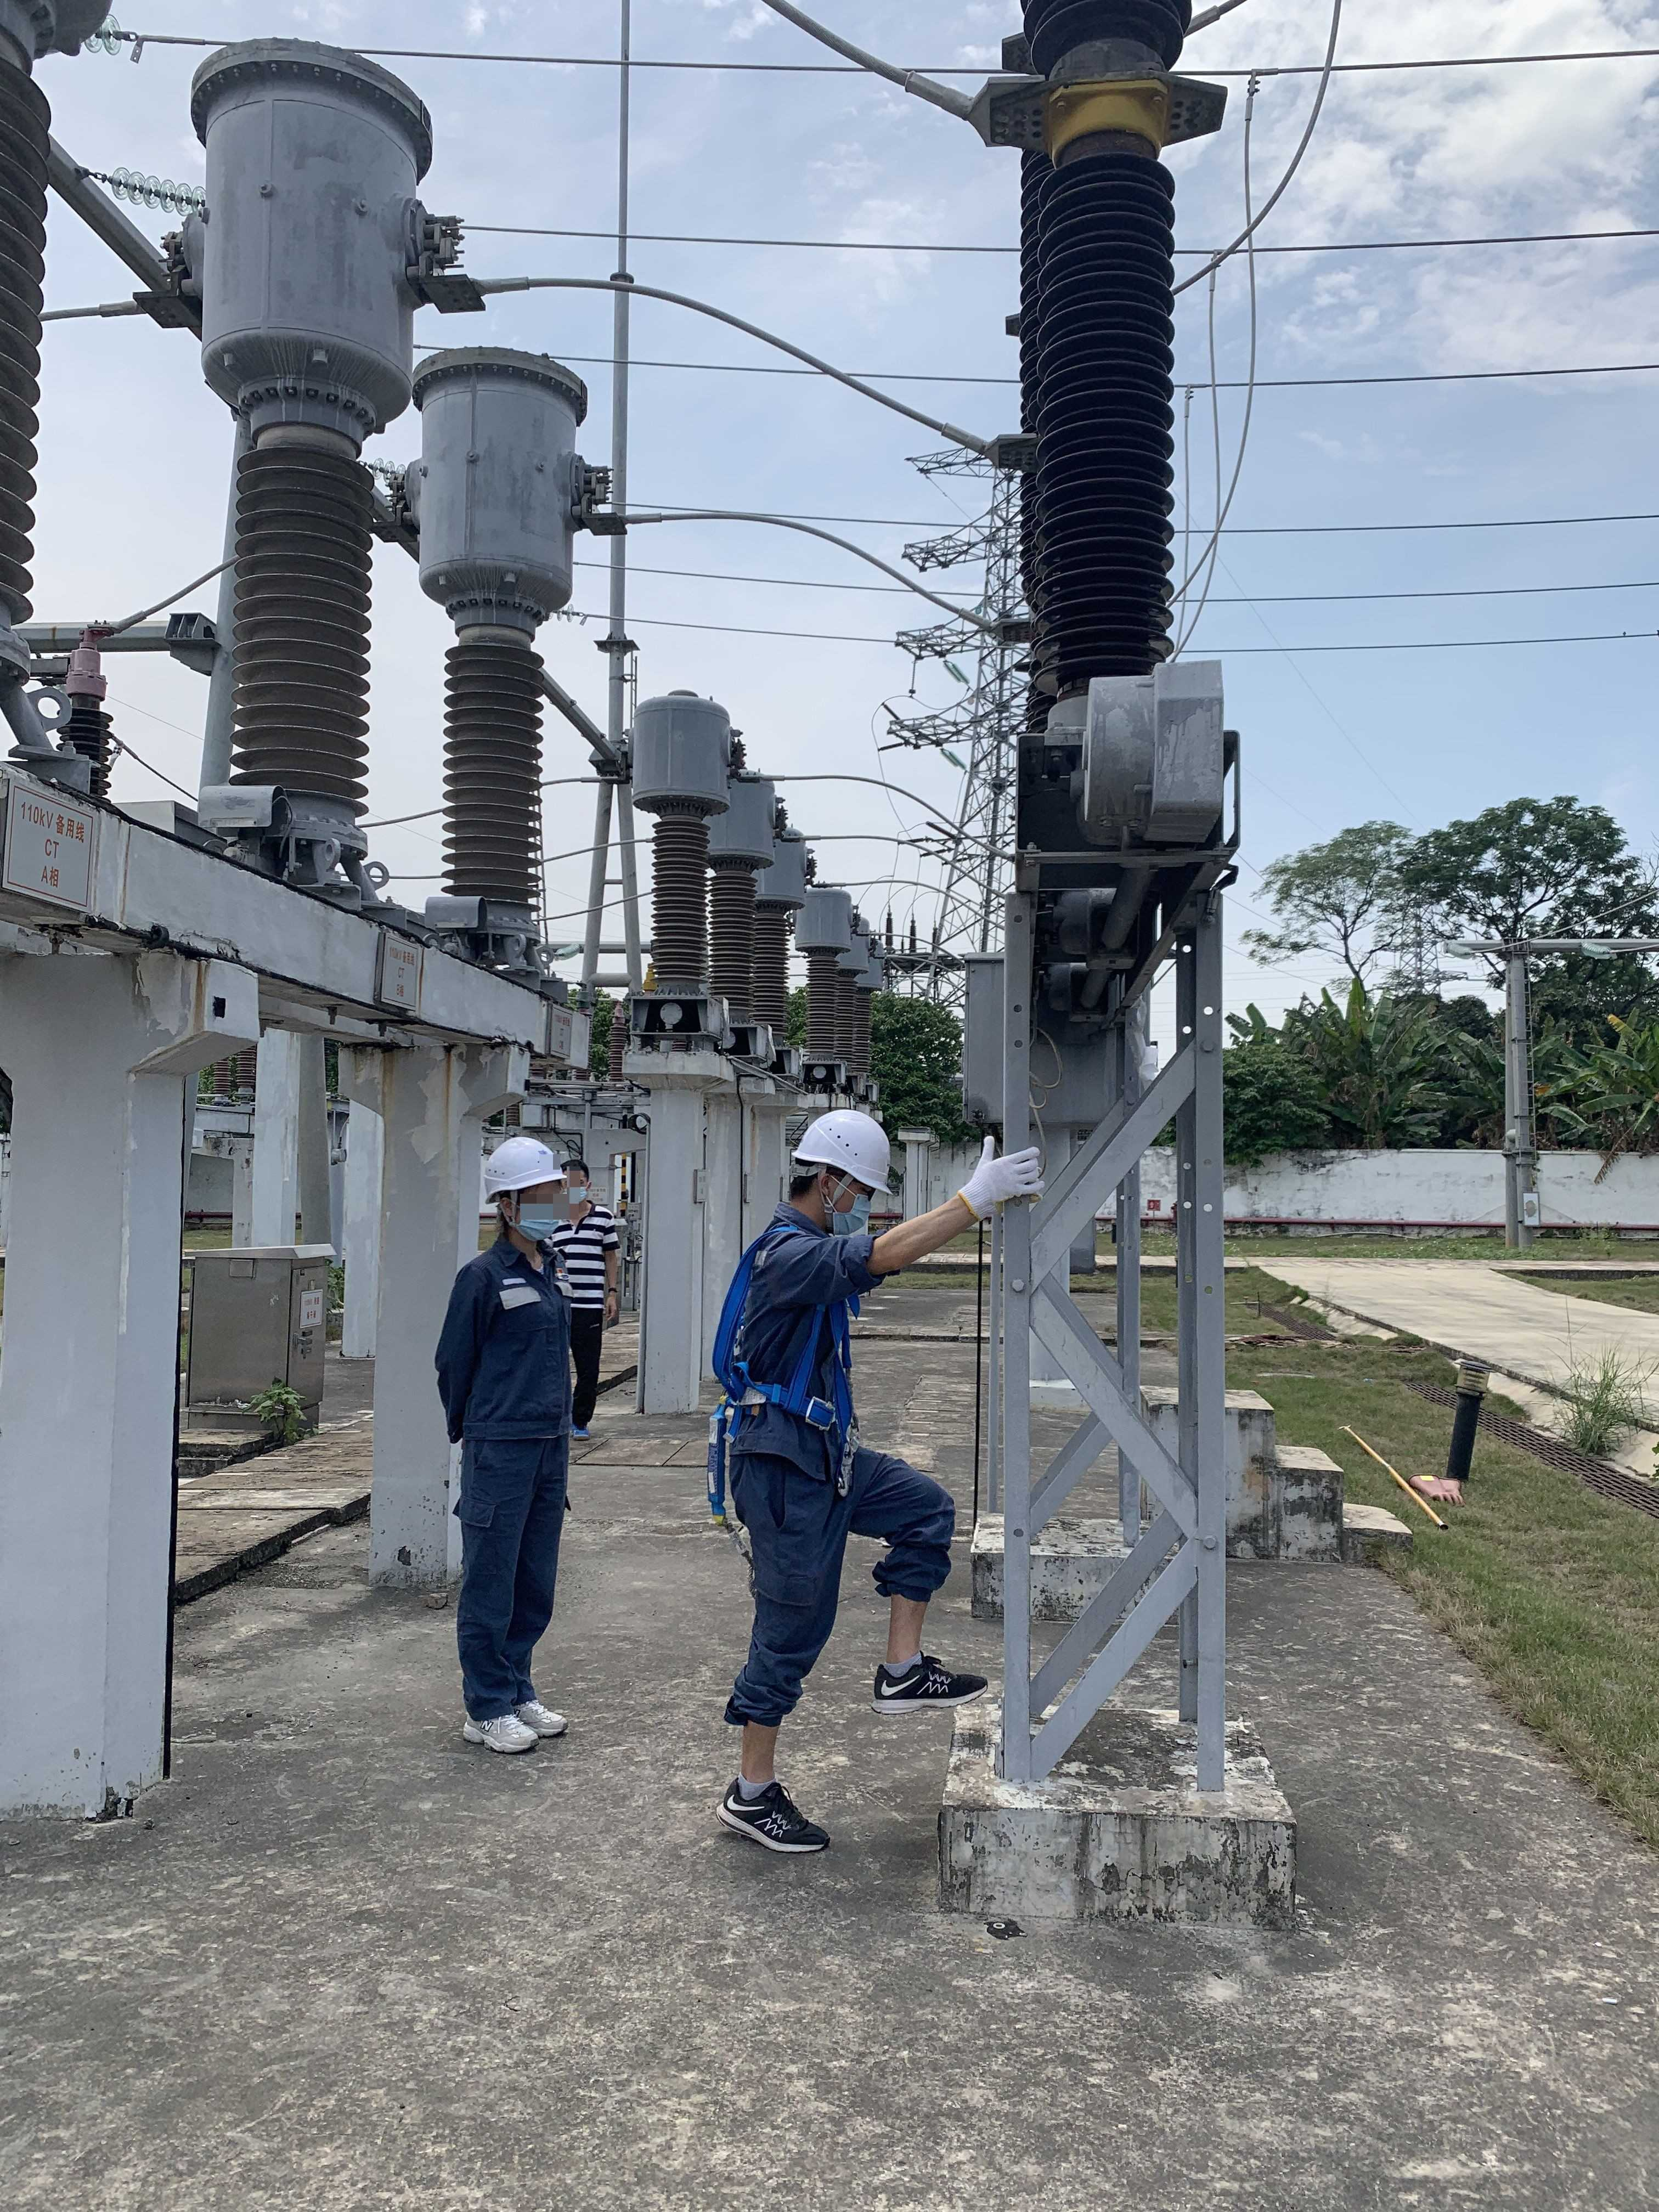downsuit: (716, 1449, 955, 1733), (446, 1458, 573, 1716)
upsuit: (713, 1211, 885, 1426), (430, 1238, 603, 1446)
wrongbottom: (723, 1674, 802, 1794), (871, 1559, 948, 1672)
wrongtop: (847, 1181, 983, 1287)
